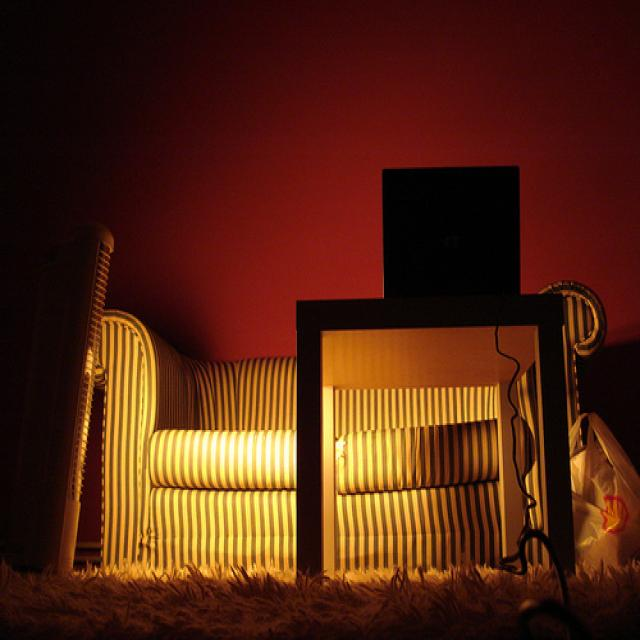Table: (281, 264, 604, 598)
chair: (53, 243, 631, 595)
